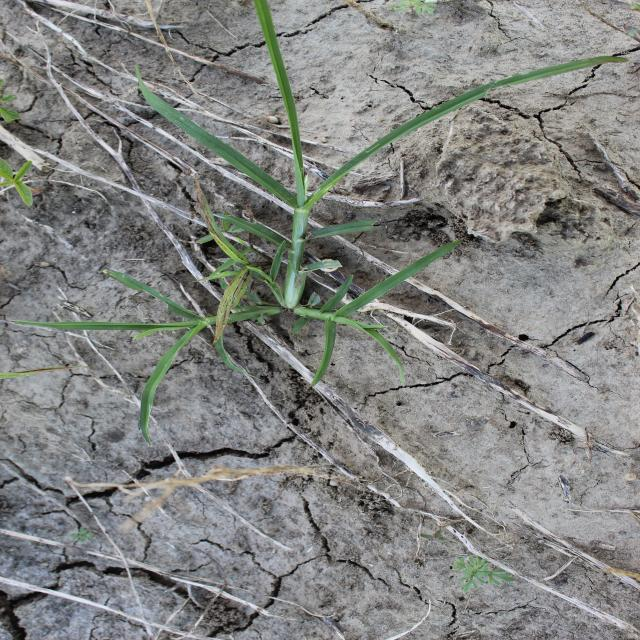Goosegrass: (3, 3, 633, 442)
Ragweed: (449, 555, 518, 595), (392, 2, 438, 21)
Waterhemp: (2, 156, 38, 209)
